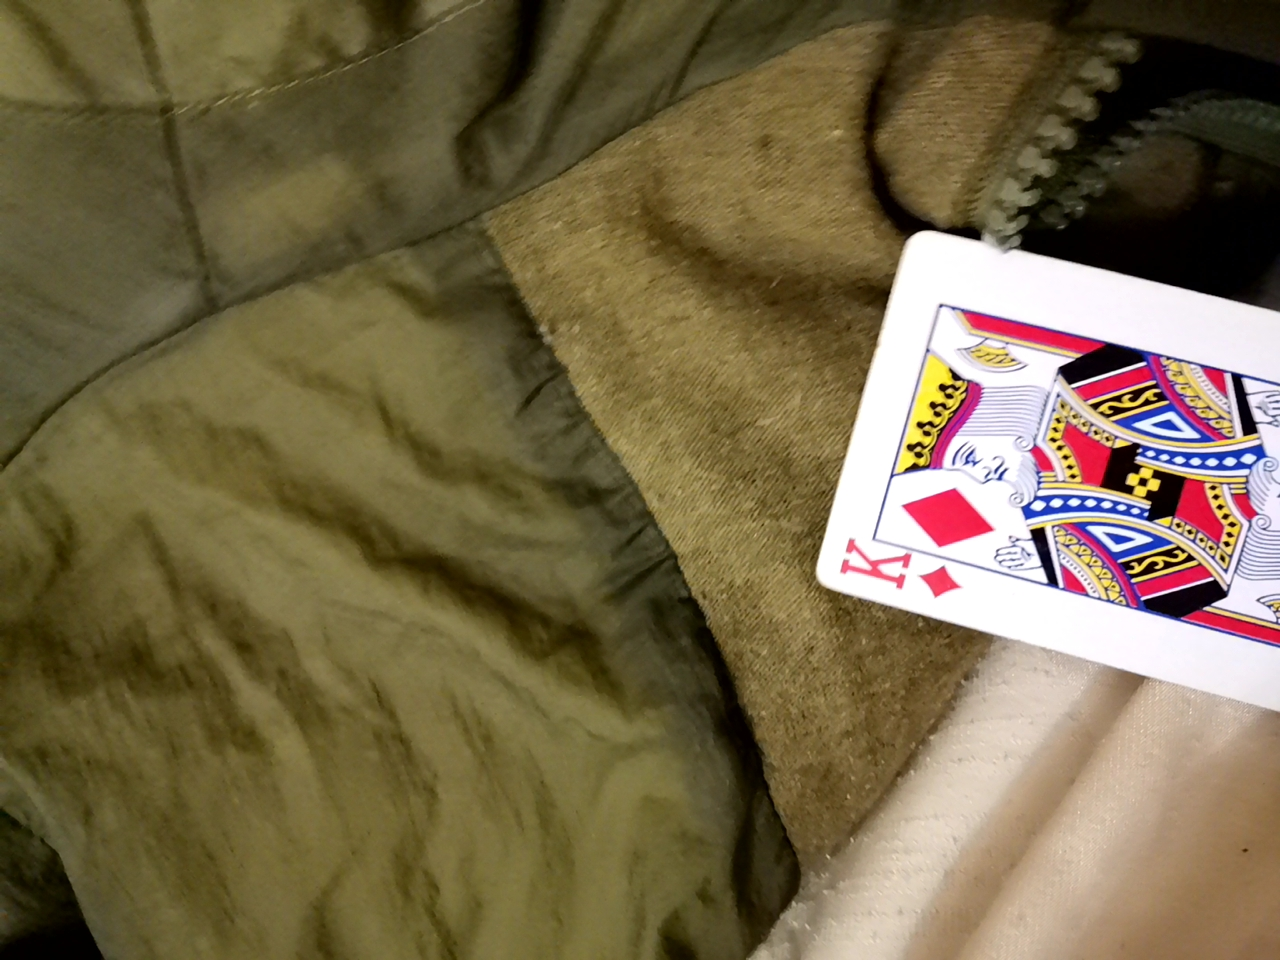fk k: (783, 219, 1280, 753)
